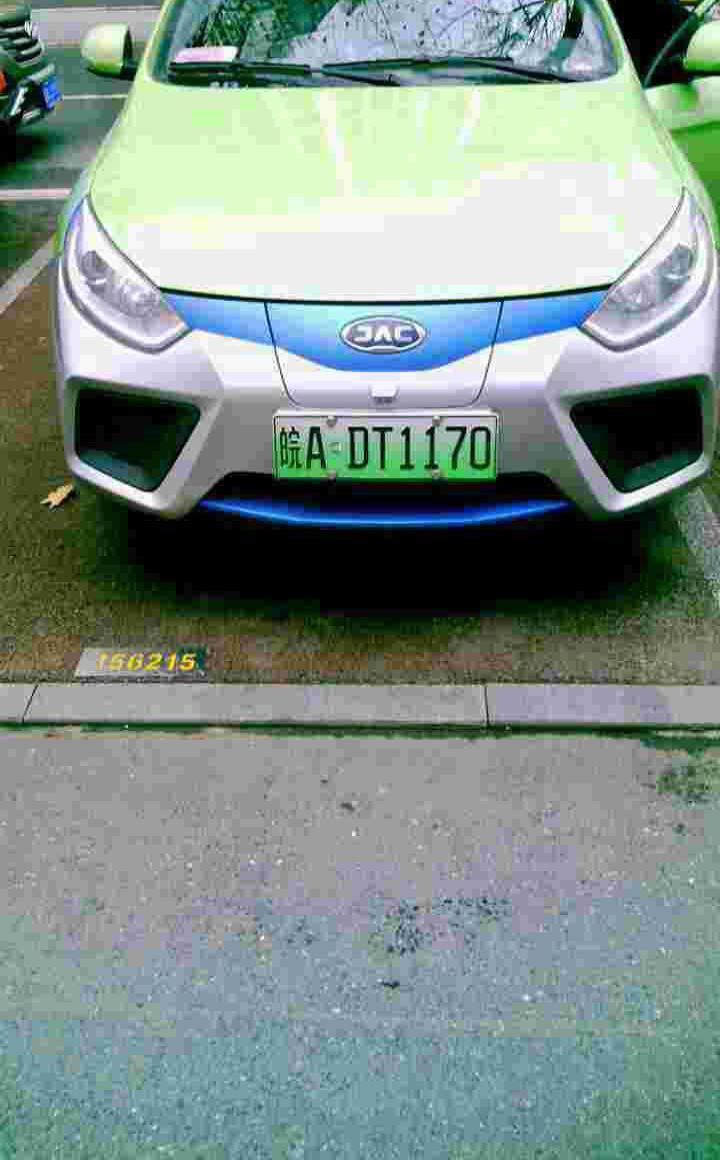car_id: (272, 414, 497, 480)
